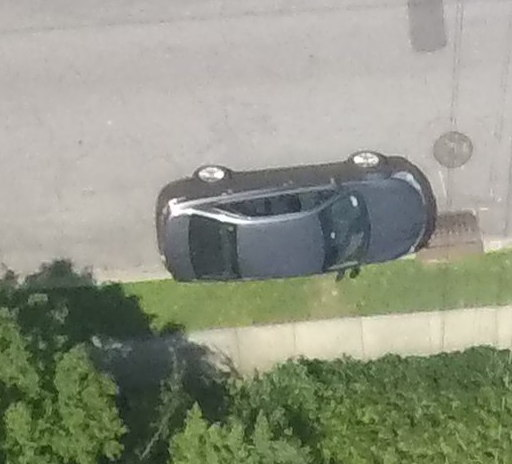car: (150, 118, 451, 283)
drain: (416, 198, 481, 273)
